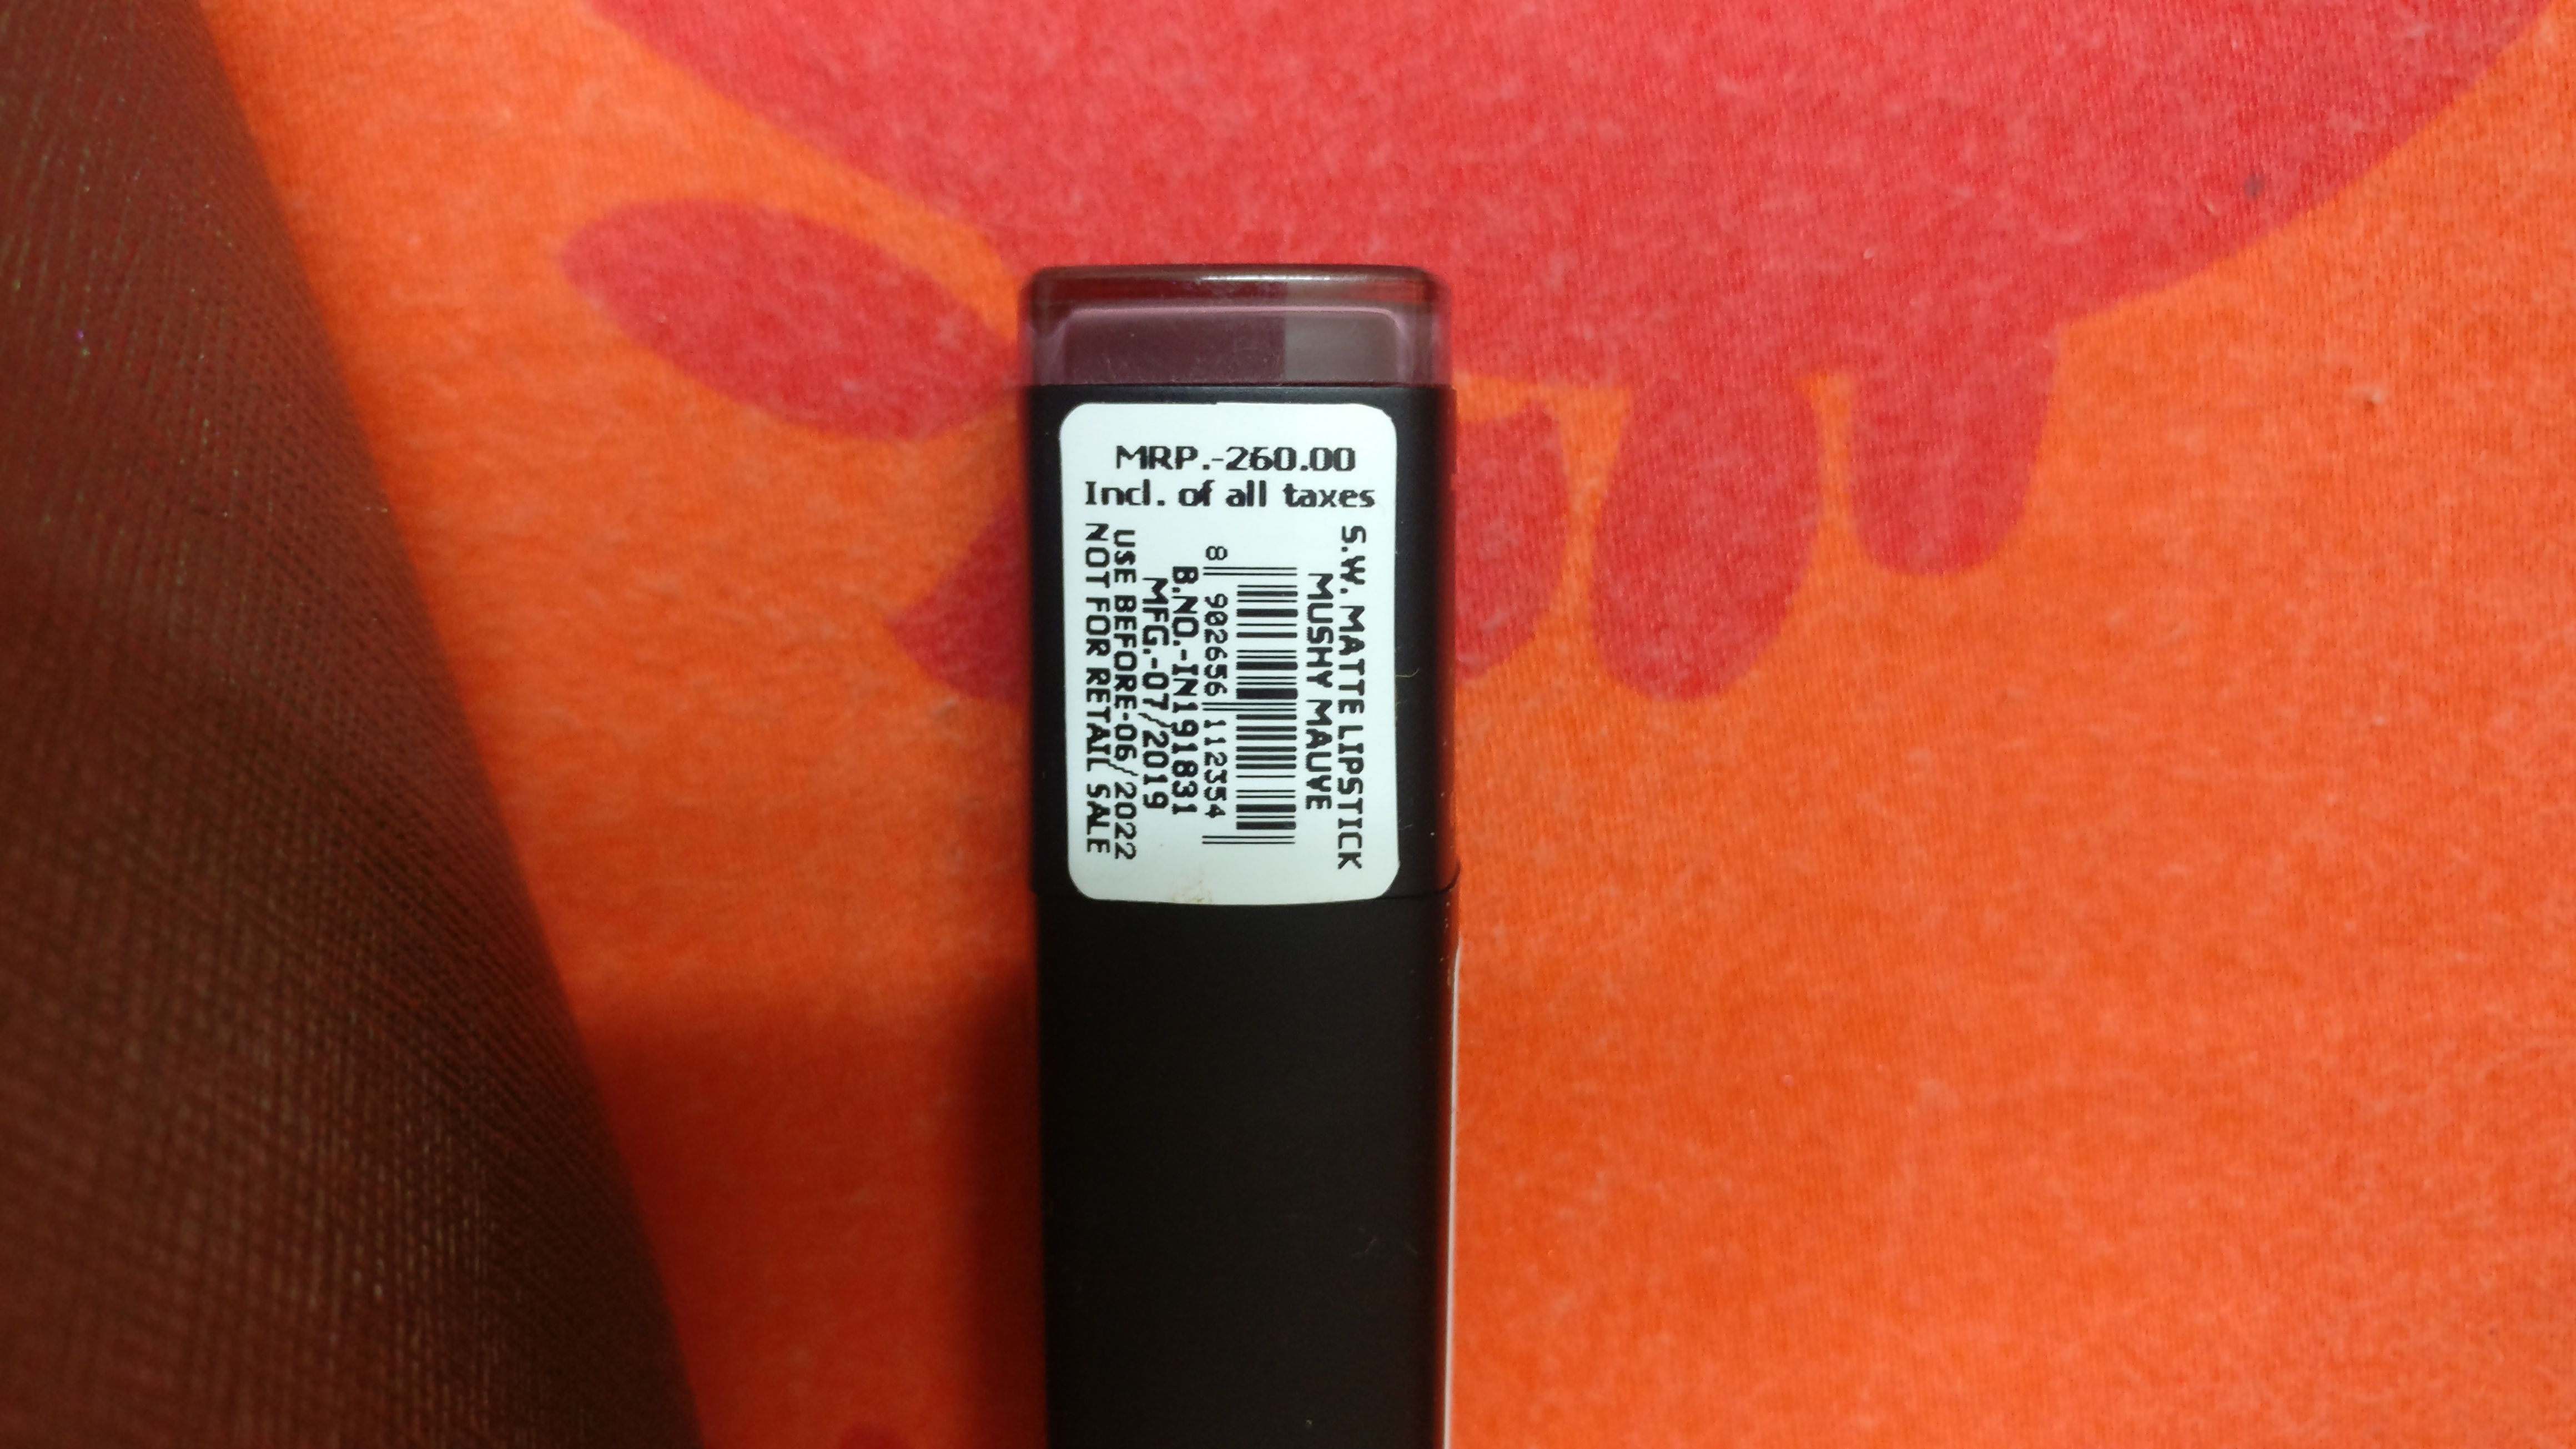barcode: (1198, 541, 1311, 862)
